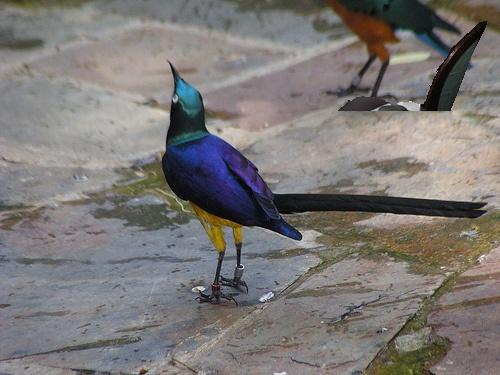tampered: (338, 21, 487, 111)
